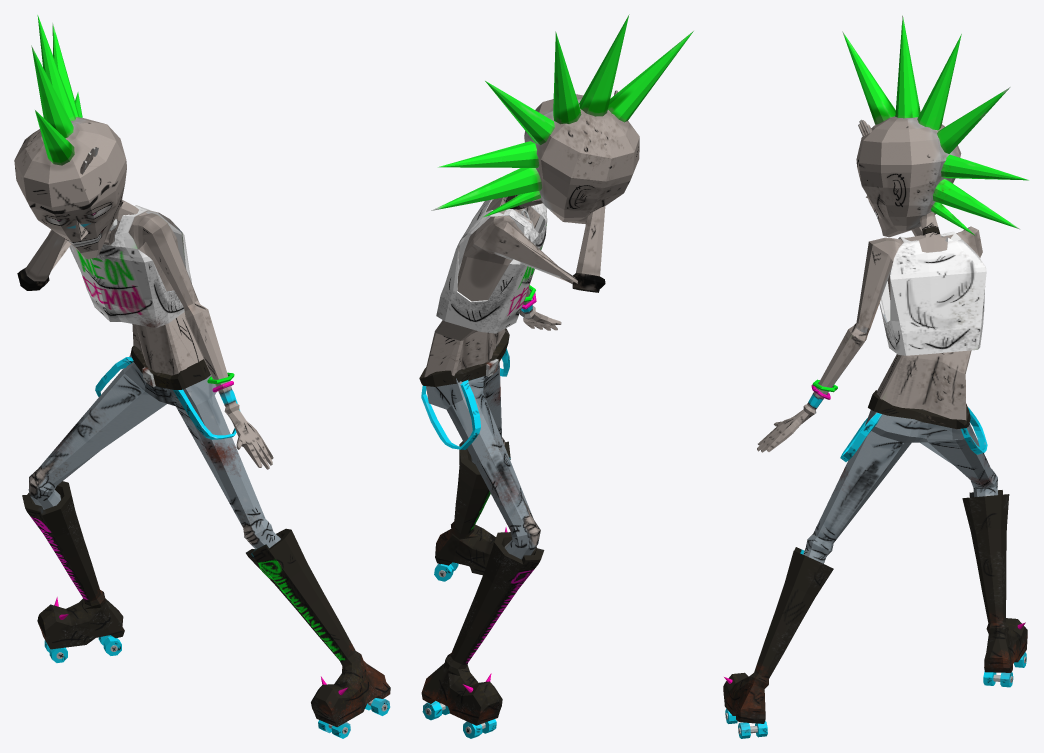
Rendered from punkAnimation_000052.obj.
3 views of the same model, side by side, from view 1: azimuth 30°, elevation 25°; view 2: azimuth 150°, elevation 25°; view 3: azimuth 270°, elevation 25° (orthographic). The views are drawn at different scales.
Parts seen in each view (by area): view 1: Cube.004_Cube.003; view 2: Cube.004_Cube.003; view 3: Cube.004_Cube.003.
Boxes of the visible parts, left/top/right/bottom form: Cube.004_Cube.003: left=14, top=15, right=390, bottom=738; Cube.004_Cube.003: left=419, top=14, right=693, bottom=738; Cube.004_Cube.003: left=723, top=15, right=1028, bottom=738.
Bounding box in the file's own units: 3.12 × 6.72 × 3.04.
